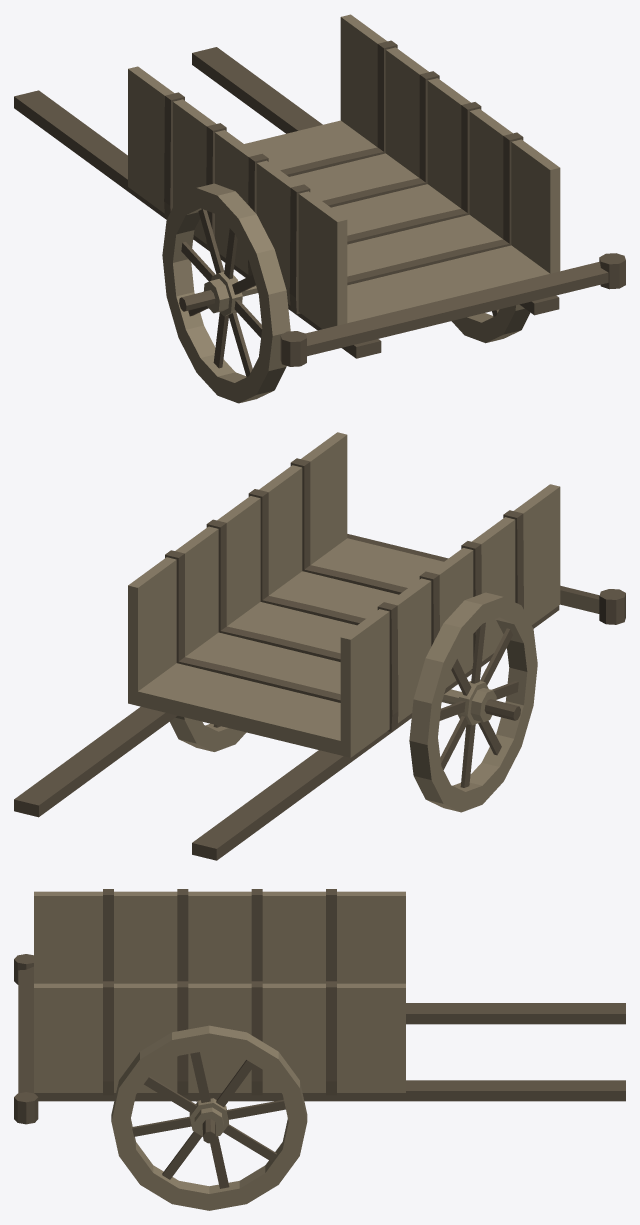
The model's file is carreta_lowpoly (1).fbx.
The picture shows the model from 3 angles, top to bottom: view 1: azimuth 30°, elevation 25°; view 2: azimuth 150°, elevation 25°; view 3: azimuth 270°, elevation 25°; orthographic projection. The views are drawn at different scales.
Parts seen in each view (by area): view 1: Cube, Plane, Cube.003, Cube.004, Cube.002, Cube.001; view 2: Cube, Plane, Cube.003, Cube.004, Cube.002; view 3: Cube, Plane, Cube.004, Cube.003, Cube.001.
Part boxes in pixels (x1,y1,x2,y2): Cube: (128,14,608,356); Plane: (162,183,530,403); Cube.003: (14,90,381,358); Cube.004: (192,47,559,315); Cube.002: (280,331,306,366); Cube.001: (599,253,625,289); Cube: (128,432,599,757); Plane: (169,592,537,812); Cube.003: (192,605,559,860); Cube.004: (14,706,177,817); Cube.002: (599,589,625,624); Cube: (18,889,405,1095); Plane: (111,1025,307,1210); Cube.004: (34,1080,625,1101); Cube.003: (406,1003,625,1024); Cube.001: (14,1092,38,1124).
Size of the model in its own units: 308 by 208 by 536.
